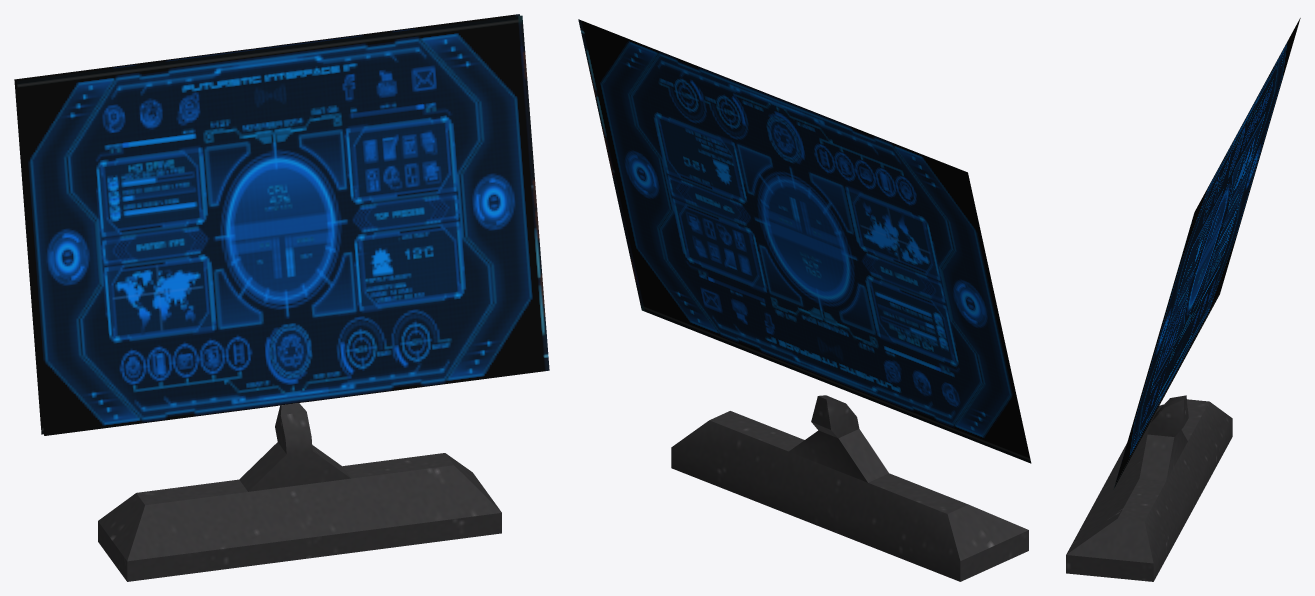
File: MonitorPC.fbx
The picture shows the model from 3 angles, left to right: view 1: azimuth 30°, elevation 25°; view 2: azimuth 150°, elevation 25°; view 3: azimuth 270°, elevation 25°; orthographic projection. The views are drawn at different scales.
Parts seen in each view (by area): view 1: MonitorPCTop, MonitorPC; view 2: MonitorPCTop, MonitorPC; view 3: MonitorPC, MonitorPCTop.
Boxes of the visible parts, x1,y1,x2,y2 form: MonitorPCTop: (14, 14, 549, 435); MonitorPC: (98, 403, 501, 581); MonitorPCTop: (578, 19, 1031, 463); MonitorPC: (671, 395, 1028, 581); MonitorPC: (1066, 395, 1232, 581); MonitorPCTop: (1113, 18, 1300, 489).
Bounding box in the file's own units: 93.31 × 85.67 × 45.33.
